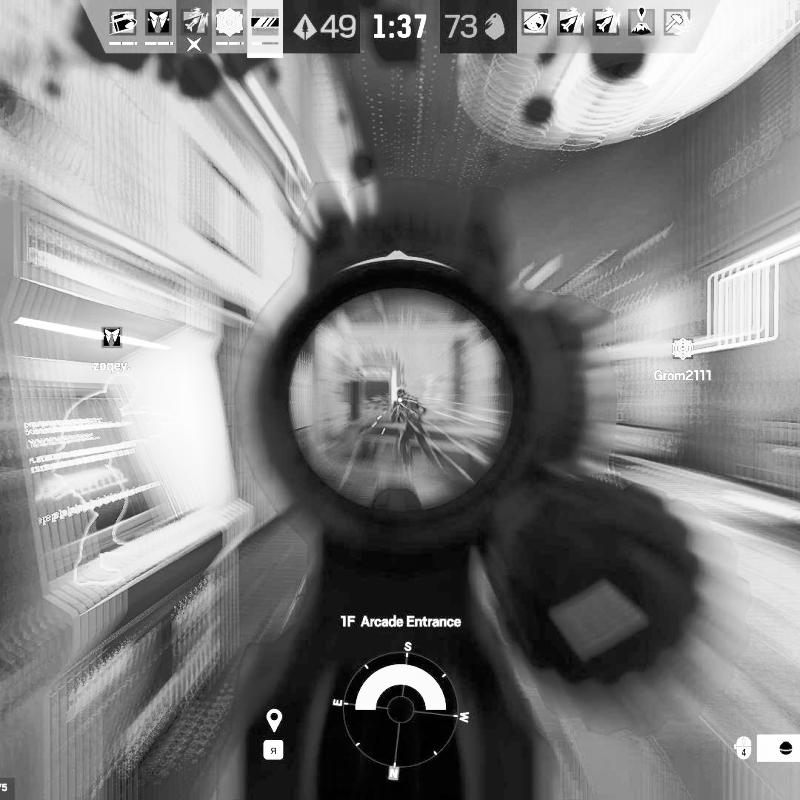Character: (391, 388, 444, 477)
Friend_label: (650, 336, 714, 382), (92, 324, 132, 374)
Head: (397, 389, 406, 401)
